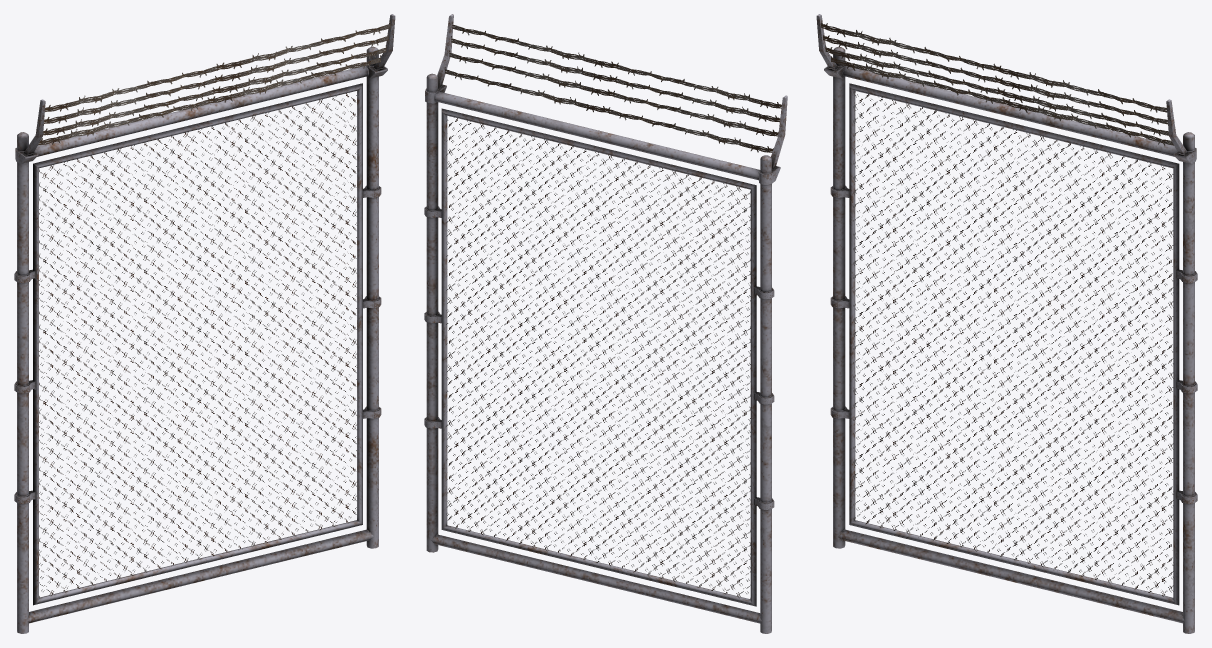
File: Fence 2m.fbx
The picture shows the model from 3 angles, left to right: view 1: azimuth 30°, elevation 25°; view 2: azimuth 150°, elevation 25°; view 3: azimuth 330°, elevation 25°; orthographic projection. The views are drawn at different scales.
Parts seen in each view (by area): view 1: Fence_2m; view 2: Fence_2m; view 3: Fence_2m.
Part boxes in pixels (x1,y1,x2,y2): Fence_2m: (14, 14, 395, 633); Fence_2m: (424, 14, 787, 633); Fence_2m: (816, 14, 1197, 633).
Size of the model in its own units: 200 by 286 by 24.42.
